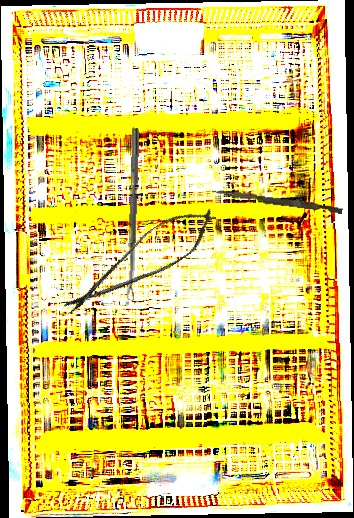Micro Scissor: (56, 195, 225, 329)
Pusher: (210, 188, 344, 215)
Surgical Spoon: (125, 127, 140, 301)
